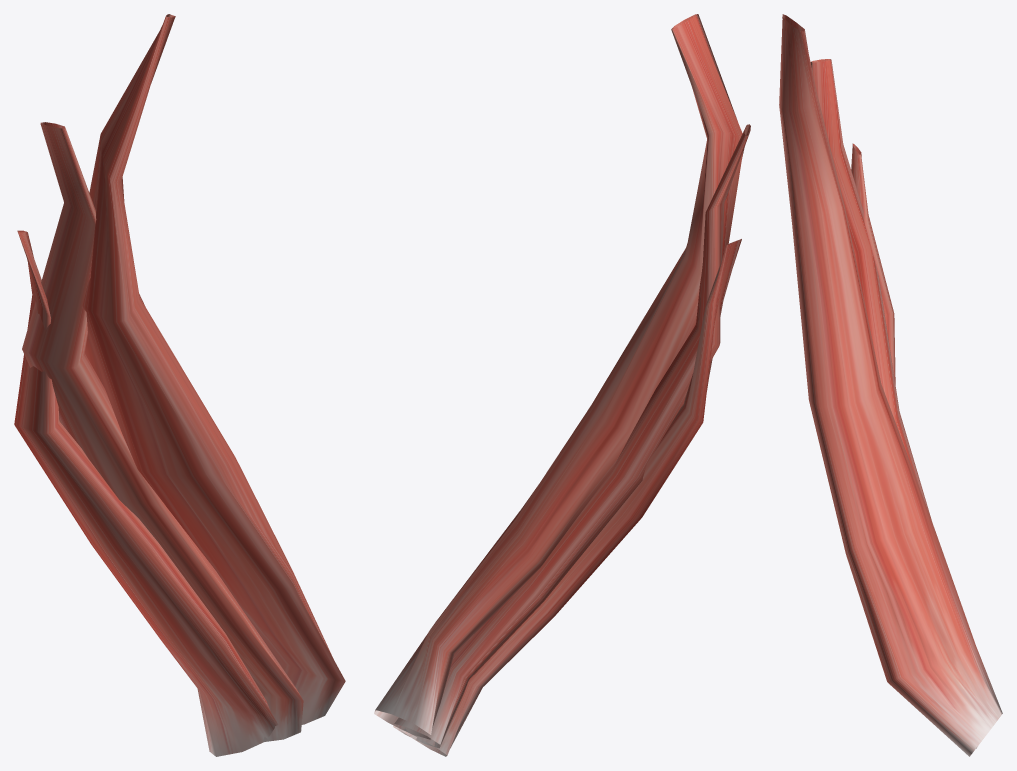
File: Scalene_Muscle_Left.obj
3 views of the same model, side by side, from view 1: azimuth 30°, elevation 25°; view 2: azimuth 150°, elevation 25°; view 3: azimuth 270°, elevation 25° (orthographic). The views are drawn at different scales.
Visible parts, largest first — view 1: Scalene_Muscle_Left_03:Scalene_Muscle_Left_03_Mesh Scalene_Muscl, Scalene_Muscle_Left_02:Scalene_Muscle_Left_02_Mesh Scalene_Muscl, Scalene_Muscle_Left_01:Scalene_Muscle_Left_01_Mesh Scalene_Muscl; view 2: Scalene_Muscle_Left_03:Scalene_Muscle_Left_03_Mesh Scalene_Muscl, Scalene_Muscle_Left_02:Scalene_Muscle_Left_02_Mesh Scalene_Muscl, Scalene_Muscle_Left_01:Scalene_Muscle_Left_01_Mesh Scalene_Muscl; view 3: Scalene_Muscle_Left_03:Scalene_Muscle_Left_03_Mesh Scalene_Muscl, Scalene_Muscle_Left_02:Scalene_Muscle_Left_02_Mesh Scalene_Muscl, Scalene_Muscle_Left_01:Scalene_Muscle_Left_01_Mesh Scalene_Muscl.
Part boxes in pixels (x1,y1,x2,y2): Scalene_Muscle_Left_03:Scalene_Muscle_Left_03_Mesh Scalene_Muscl: (82,14,345,724); Scalene_Muscle_Left_02:Scalene_Muscle_Left_02_Mesh Scalene_Muscl: (22,122,303,742); Scalene_Muscle_Left_01:Scalene_Muscle_Left_01_Mesh Scalene_Muscl: (14,230,278,756); Scalene_Muscle_Left_03:Scalene_Muscle_Left_03_Mesh Scalene_Muscl: (374,14,744,739); Scalene_Muscle_Left_02:Scalene_Muscle_Left_02_Mesh Scalene_Muscl: (393,124,750,748); Scalene_Muscle_Left_01:Scalene_Muscle_Left_01_Mesh Scalene_Muscl: (401,239,741,756); Scalene_Muscle_Left_03:Scalene_Muscle_Left_03_Mesh Scalene_Muscl: (779,14,1002,756); Scalene_Muscle_Left_02:Scalene_Muscle_Left_02_Mesh Scalene_Muscl: (810,59,931,519); Scalene_Muscle_Left_01:Scalene_Muscle_Left_01_Mesh Scalene_Muscl: (851,143,978,748).
Size of the model in its own units: 0.6314 by 1.38 by 0.426.
